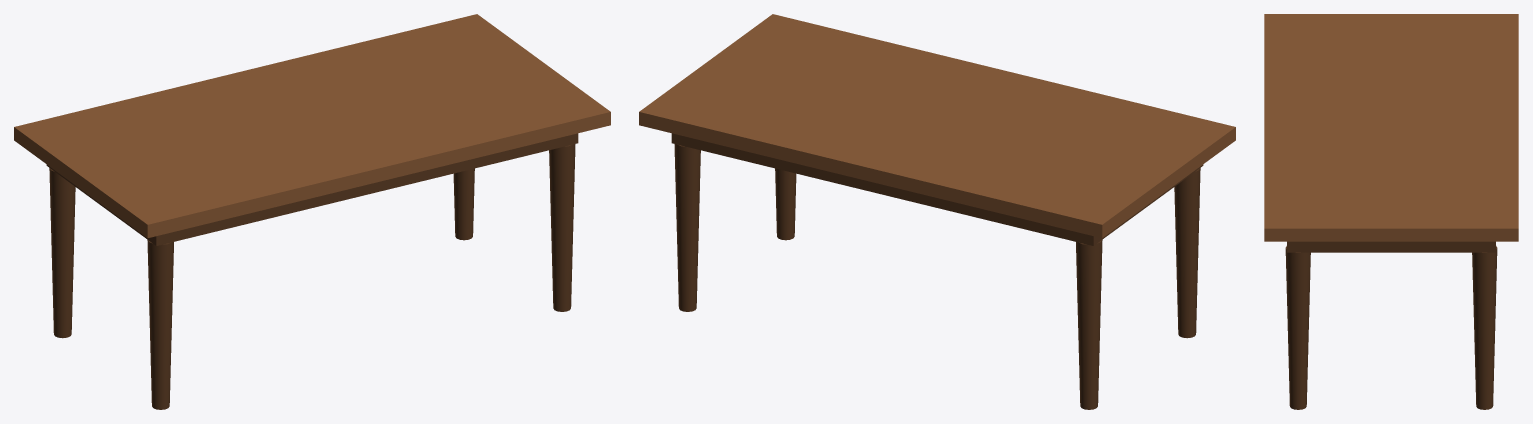
File: diningtable.glb
3 views of the same model, side by side, from view 1: azimuth 30°, elevation 25°; view 2: azimuth 150°, elevation 25°; view 3: azimuth 270°, elevation 25° (orthographic). The views are drawn at different scales.
Visible parts, largest first — view 1: Tabletop, ApronFront, Leg2, Leg3, Leg0, Leg1; view 2: Tabletop, ApronBack, Leg0, Leg1, Leg2, Leg3; view 3: Tabletop, Leg1, Leg3, ApronLeft.
Part boxes in pixels (bbox=[...]): Tabletop: bbox=[14, 14, 610, 237]; ApronFront: bbox=[151, 133, 578, 245]; Leg2: bbox=[147, 239, 173, 409]; Leg3: bbox=[549, 144, 575, 311]; Leg0: bbox=[49, 168, 75, 338]; Leg1: bbox=[453, 168, 474, 240]; Tabletop: bbox=[639, 14, 1235, 237]; ApronBack: bbox=[687, 137, 1102, 245]; Leg0: bbox=[1076, 239, 1102, 409]; Leg1: bbox=[674, 144, 700, 311]; Leg2: bbox=[1174, 168, 1200, 338]; Leg3: bbox=[775, 168, 796, 240]; Tabletop: bbox=[1264, 14, 1518, 241]; Leg1: bbox=[1472, 246, 1497, 409]; Leg3: bbox=[1285, 246, 1310, 409]; ApronLeft: bbox=[1287, 241, 1495, 252].
Size of the model in its own units: 1.8 by 0.75 by 0.9.
